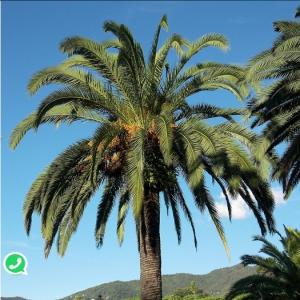palm tree: (8, 13, 278, 299)
